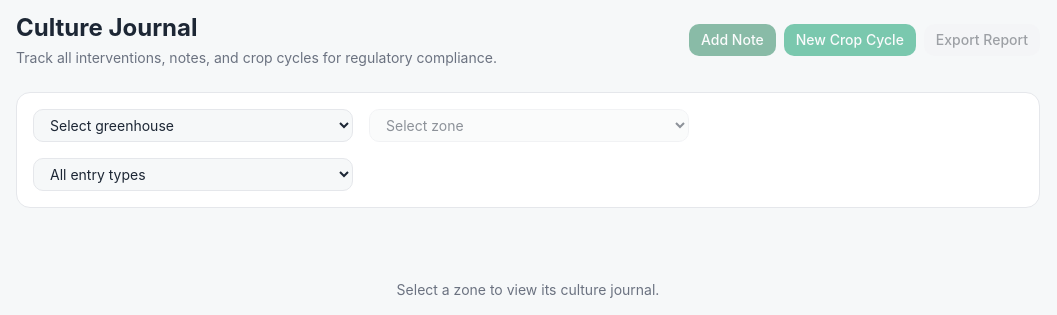
Test case: CultureJournal page › shows 'no entries' message when zone has no journal entries
The width and height of the screenshot is (1057, 315).
Step 1. Select "Greenhouse Alpha" in the 1st dropdown → (193, 126), box [33, 109, 353, 142]
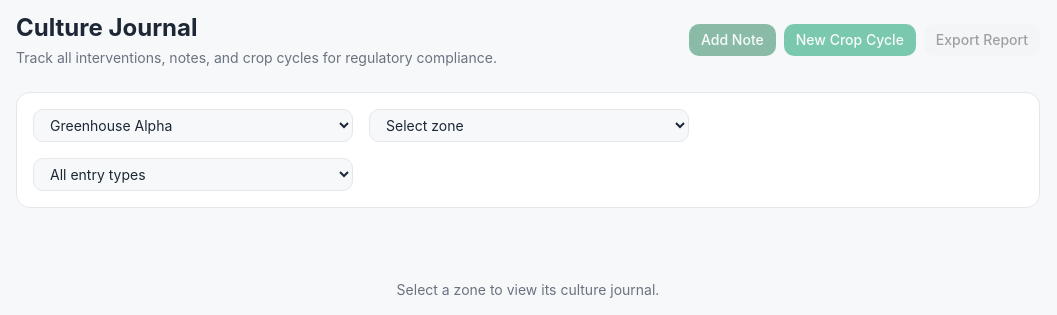
Step 2. Select "Zone Tomato" in the 2nd dropdown → (529, 126), box [369, 109, 689, 142]
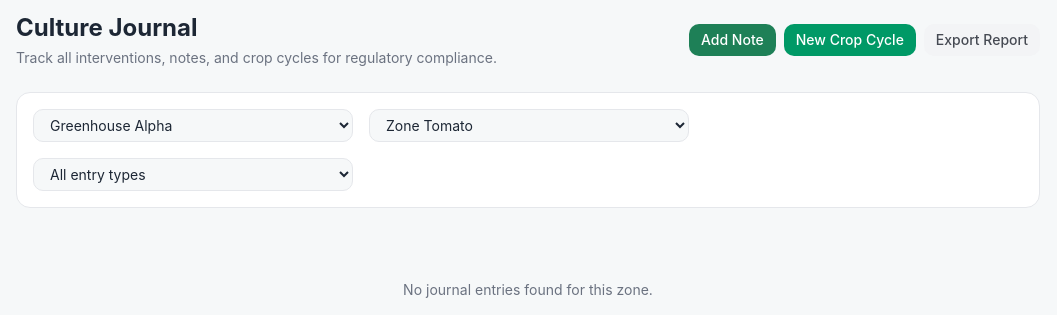
Expected: the text "No journal entries found for this zone." is shown, [403, 281, 653, 298]
